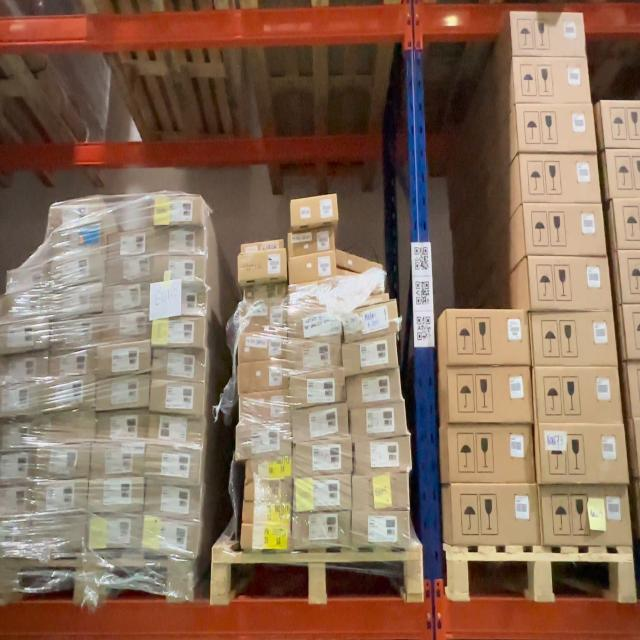box: (447, 484, 540, 544), (543, 486, 631, 544), (540, 424, 626, 483), (449, 426, 535, 482), (448, 309, 531, 365), (532, 312, 617, 366), (538, 368, 622, 422), (448, 368, 532, 421), (532, 256, 612, 309), (520, 153, 602, 203), (527, 204, 607, 254), (516, 105, 597, 152), (515, 56, 590, 104), (513, 13, 585, 58), (292, 438, 351, 476), (352, 512, 411, 549), (292, 514, 350, 549), (90, 516, 146, 552), (354, 474, 409, 510), (357, 437, 412, 473), (91, 478, 146, 514), (152, 282, 207, 318), (293, 477, 351, 511), (288, 372, 344, 407), (351, 403, 407, 438), (146, 485, 200, 521), (344, 337, 398, 373), (343, 301, 397, 337), (293, 406, 348, 441), (32, 481, 88, 515), (97, 375, 150, 410), (145, 523, 198, 558), (40, 411, 96, 444), (288, 337, 342, 371), (147, 450, 201, 484), (152, 382, 206, 416), (94, 444, 147, 478), (33, 521, 86, 555), (52, 250, 105, 284), (347, 372, 401, 405), (37, 445, 91, 478), (152, 318, 206, 350), (238, 424, 290, 457), (149, 416, 201, 449), (154, 350, 207, 382), (98, 344, 151, 376), (52, 201, 106, 232), (288, 307, 340, 339), (47, 378, 96, 411), (51, 284, 101, 316), (99, 412, 150, 443), (156, 194, 204, 225), (153, 254, 208, 281), (238, 362, 287, 392), (239, 393, 288, 423), (0, 323, 49, 353), (289, 252, 336, 283), (102, 313, 152, 342), (292, 196, 337, 228), (239, 331, 287, 361), (339, 275, 390, 303), (155, 227, 207, 254), (52, 317, 97, 348), (0, 355, 48, 384), (0, 385, 43, 417), (241, 252, 287, 281), (51, 228, 103, 253), (106, 283, 150, 312), (289, 281, 338, 307), (51, 351, 96, 379), (2, 293, 48, 320), (109, 255, 153, 283), (0, 523, 32, 559), (240, 306, 287, 330), (290, 230, 336, 254), (242, 457, 290, 480), (109, 231, 153, 256), (0, 422, 39, 450), (0, 451, 35, 482), (241, 528, 289, 550), (242, 503, 289, 525), (338, 252, 387, 273), (240, 282, 286, 304), (1, 486, 34, 516), (243, 482, 290, 503), (7, 268, 47, 292), (243, 240, 284, 253)
